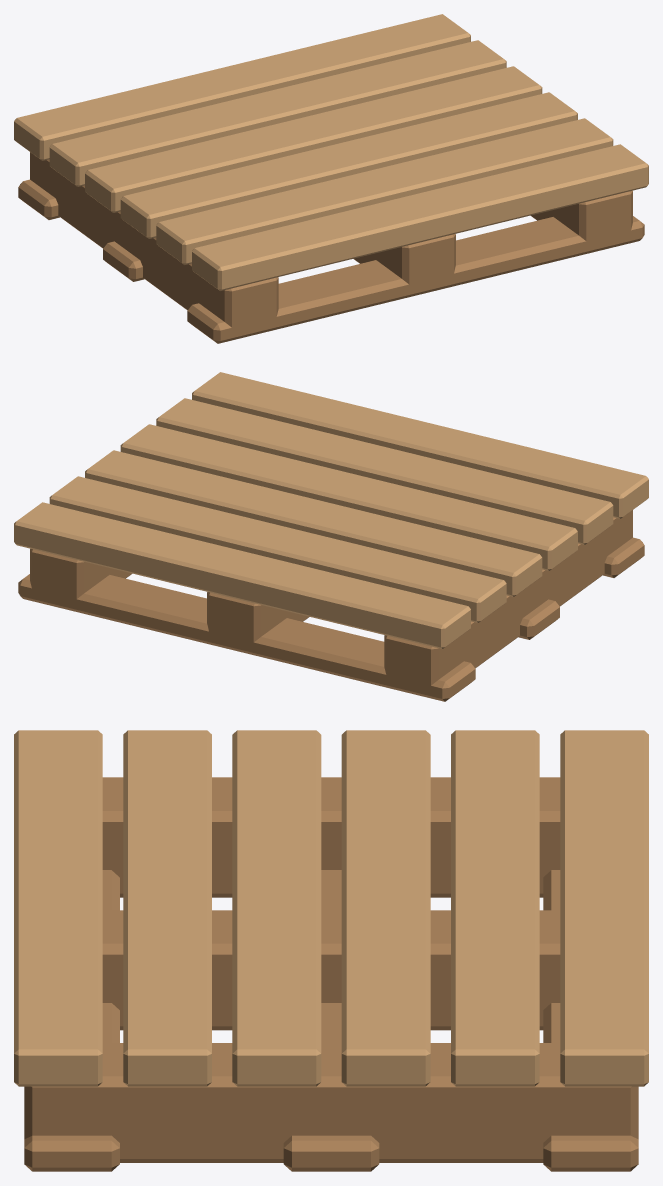
The model's file is Pallet_Wood.glb.
3 views of the same model, one above another, from view 1: azimuth 30°, elevation 25°; view 2: azimuth 150°, elevation 25°; view 3: azimuth 270°, elevation 25° (orthographic). The views are drawn at different scales.
Parts seen in each view (by area): view 1: Pallet_Wood; view 2: Pallet_Wood; view 3: Pallet_Wood.
Part boxes in pixels (x1=…): Pallet_Wood: x1=14, y1=14, x2=648, y2=343; Pallet_Wood: x1=14, y1=372, x2=648, y2=701; Pallet_Wood: x1=14, y1=730, x2=648, y2=1171.
Bounding box in the file's own units: 1.12 × 0.2 × 0.93.
